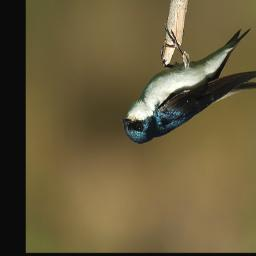Swallow: (120, 22, 256, 145)
